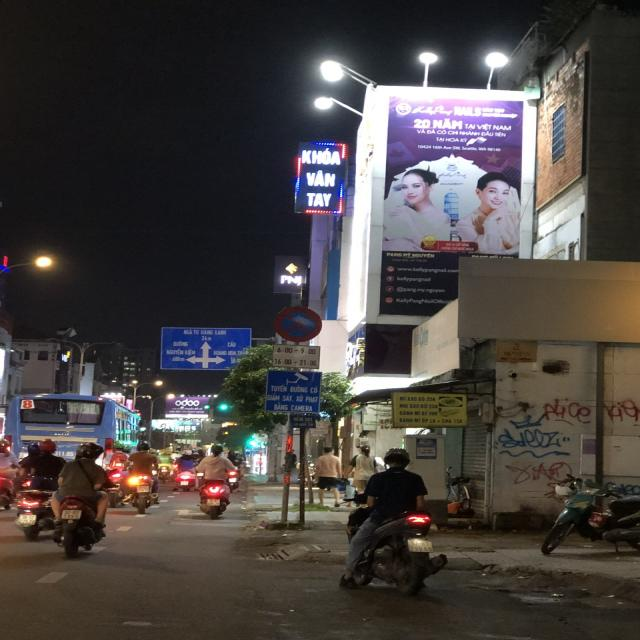Bien bao cam dung xe va do xe: (269, 302, 328, 344)
